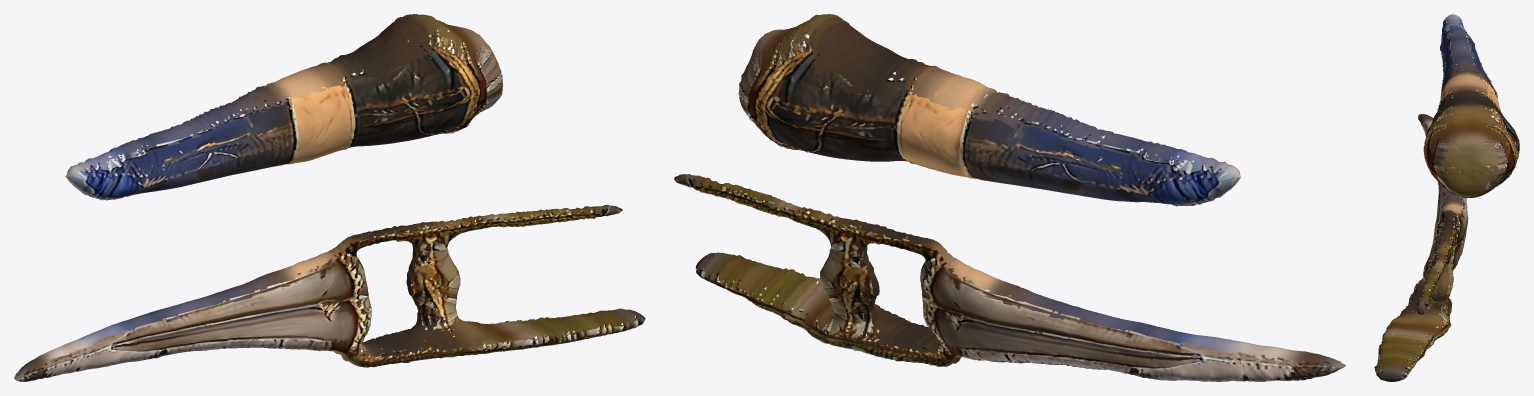
The model's file is kfl-2223.glb.
3 views of the same model, side by side, from view 1: azimuth 30°, elevation 25°; view 2: azimuth 150°, elevation 25°; view 3: azimuth 270°, elevation 25° (orthographic). The views are drawn at different scales.
Parts seen in each view (by area): view 1: kfl-2223; view 2: kfl-2223; view 3: kfl-2223.
Boxes of the visible parts, x1,y1,x2,y2 form: kfl-2223: (14,14,645,381); kfl-2223: (674,14,1345,381); kfl-2223: (1374,14,1519,381).
Size of the model in its own units: 0.9831 by 0.4754 by 0.2797.
Materials: 4 (4 with a texture image).
